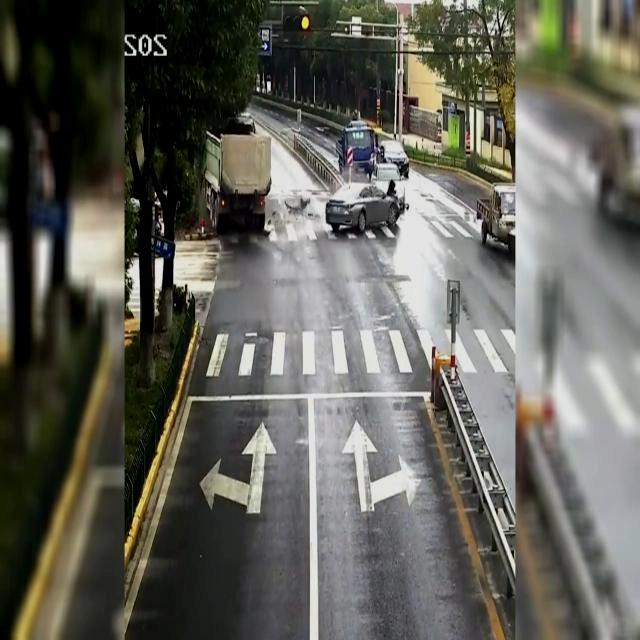accident: (192, 113, 321, 237), (272, 180, 410, 234)
non-accident: (335, 121, 409, 179)
